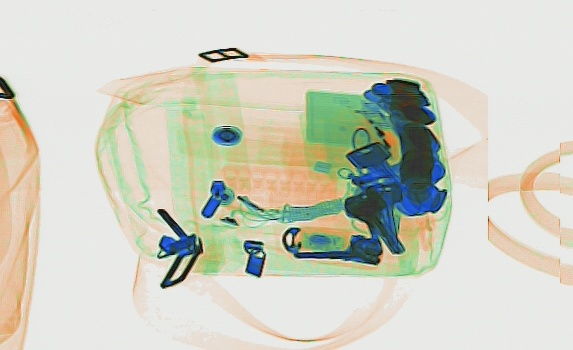lighter: (352, 94, 405, 162)
